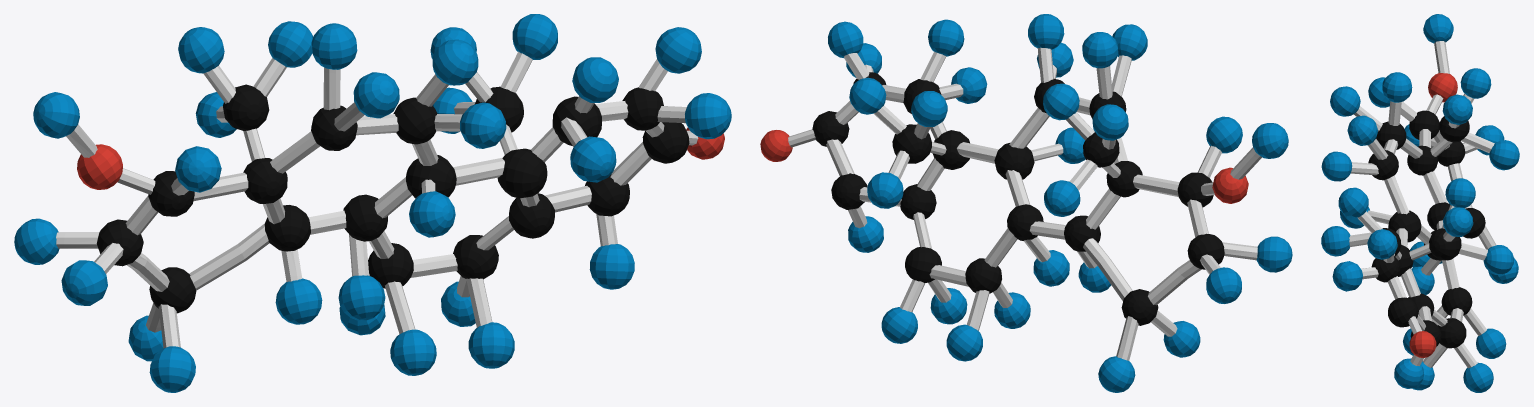
Rendered from Testosterone Molecular Struct.glb.
3 views of the same model, side by side, from view 1: azimuth 30°, elevation 25°; view 2: azimuth 150°, elevation 25°; view 3: azimuth 270°, elevation 25° (orthographic). The views are drawn at different scales.
Visible parts, largest first — view 1: node_MeshObject1153779712-PolyPaper23, node_MeshObject1725858816-PolyPaper23; view 2: node_MeshObject1153779712-PolyPaper23, node_MeshObject1725858816-PolyPaper23; view 3: node_MeshObject1153779712-PolyPaper23, node_MeshObject1725858816-PolyPaper23.
Part boxes in pixels (x1,y1,x2,y2): node_MeshObject1153779712-PolyPaper23: [14, 14, 698, 392]; node_MeshObject1725858816-PolyPaper23: [66, 27, 731, 361]; node_MeshObject1153779712-PolyPaper23: [788, 14, 1292, 361]; node_MeshObject1725858816-PolyPaper23: [760, 19, 1261, 392]; node_MeshObject1153779712-PolyPaper23: [1330, 14, 1519, 392]; node_MeshObject1725858816-PolyPaper23: [1321, 41, 1518, 357].
Bounding box in the file's own units: 3.2 × 1.79 × 1.24.
